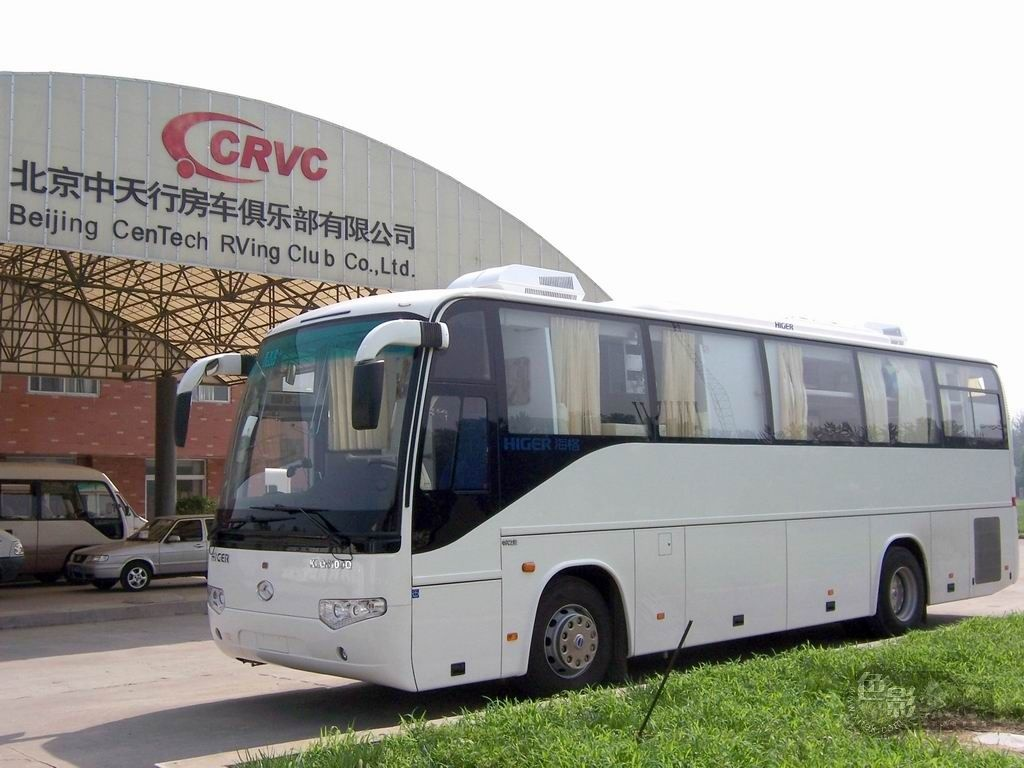bus: (217, 250, 1024, 684)
